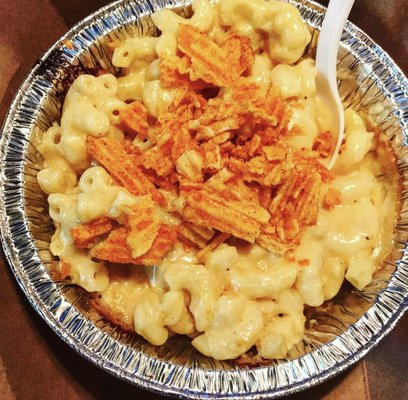sandwich: (15, 3, 408, 378)
